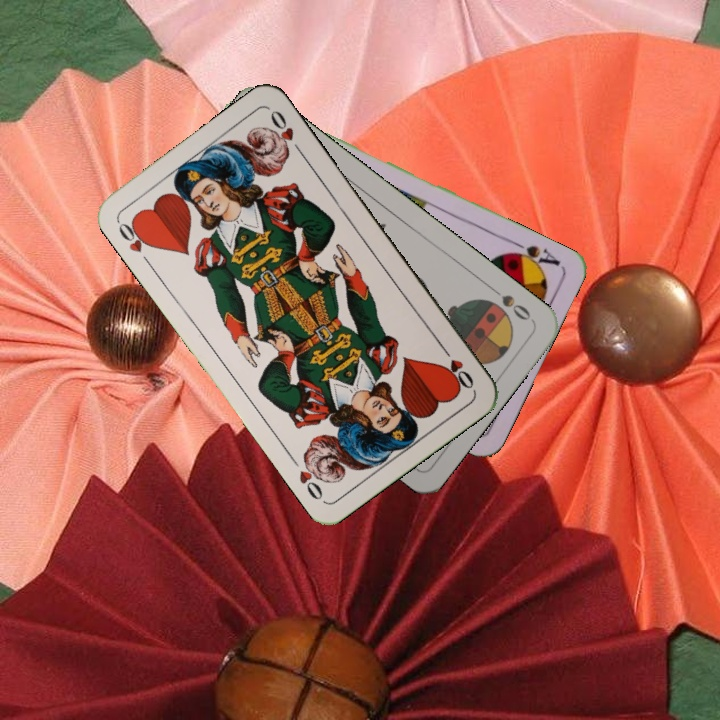HO: (113, 215, 156, 269), (437, 341, 477, 392)
SA: (503, 236, 563, 273)
SO: (486, 283, 536, 325)
